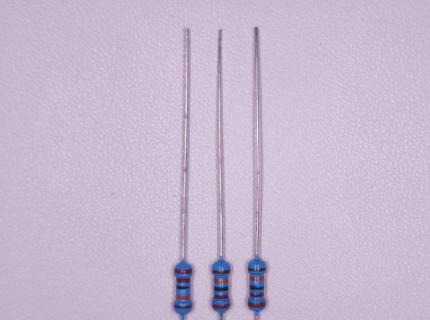Black band: (214, 286, 228, 291), (250, 285, 264, 290), (176, 285, 190, 289)
Brown band: (174, 304, 192, 309), (212, 270, 230, 274), (248, 267, 266, 271)
Orange band: (176, 294, 190, 300), (214, 278, 228, 283), (250, 276, 264, 281)
Red band: (174, 268, 193, 274), (248, 302, 266, 308), (212, 304, 230, 309), (214, 294, 229, 299), (176, 278, 190, 283), (250, 292, 264, 297)
